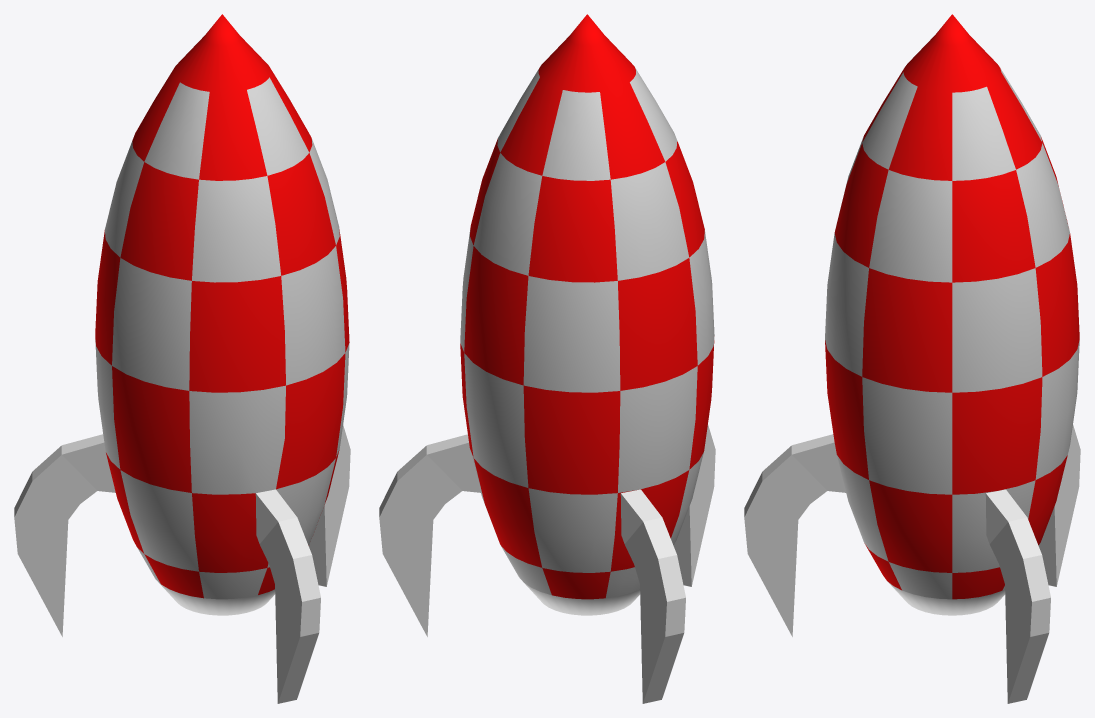
The model's file is rocket.FBX.
3 renders of one model, left to right at view 1: azimuth 30°, elevation 25°; view 2: azimuth 150°, elevation 25°; view 3: azimuth 270°, elevation 25°, orthographic.
Visible parts, largest first — view 1: blanc_v_010, blanc_v_002, blanc_v_008, pied2, blanc_v_004, pied1, blanc_v_006, pied3, blanc_v_001, reacteur; view 2: blanc_v_007, blanc_v_003, blanc_v_010, blanc_v_006, pied3, pied2, blanc_v_009, blanc_v_002, pied1, reacteur; view 3: blanc_v_008, blanc_v_007, blanc_v_001, blanc_v_010, pied1, pied3, blanc_v_009, pied2, blanc_v_004, reacteur.
Boxes of the visible parts, bbox=[...] form: blanc_v_010: bbox=[112, 14, 300, 353]; blanc_v_002: bbox=[111, 275, 277, 599]; blanc_v_008: bbox=[275, 118, 349, 438]; pied2: bbox=[14, 434, 115, 636]; blanc_v_004: bbox=[238, 368, 335, 569]; pied1: bbox=[255, 489, 320, 703]; blanc_v_006: bbox=[95, 192, 136, 545]; pied3: bbox=[308, 425, 350, 586]; blanc_v_001: bbox=[220, 430, 342, 599]; reacteur: bbox=[157, 581, 275, 615]; blanc_v_007: bbox=[460, 82, 596, 485]; blanc_v_003: bbox=[511, 207, 637, 568]; blanc_v_010: bbox=[521, 14, 707, 278]; blanc_v_006: bbox=[586, 232, 696, 581]; pied3: bbox=[379, 434, 480, 636]; pied2: bbox=[620, 489, 685, 703]; blanc_v_009: bbox=[467, 428, 639, 599]; blanc_v_002: bbox=[667, 253, 714, 545]; pied1: bbox=[673, 425, 715, 586]; reacteur: bbox=[524, 583, 640, 615]; blanc_v_008: bbox=[825, 147, 973, 468]; blanc_v_007: bbox=[956, 80, 1079, 474]; blanc_v_001: bbox=[859, 441, 966, 599]; blanc_v_010: bbox=[833, 14, 1012, 241]; pied1: bbox=[744, 434, 845, 636]; pied3: bbox=[985, 489, 1050, 703]; blanc_v_009: bbox=[949, 426, 1066, 599]; pied2: bbox=[1038, 425, 1080, 586]; blanc_v_004: bbox=[825, 333, 860, 531]; reacteur: bbox=[887, 581, 1005, 615].
Bounding box in the file's own units: 114 × 213 × 104.
